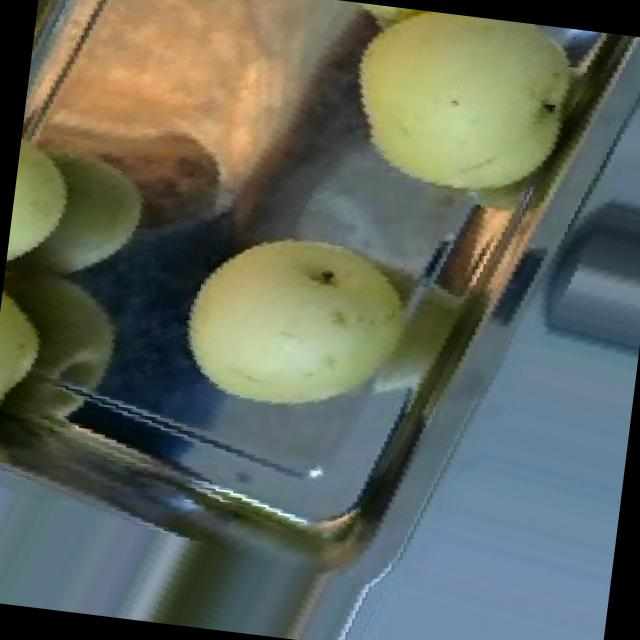Fruit: (8, 0, 393, 276), (160, 191, 447, 453), (302, 0, 610, 242), (0, 253, 69, 457)
